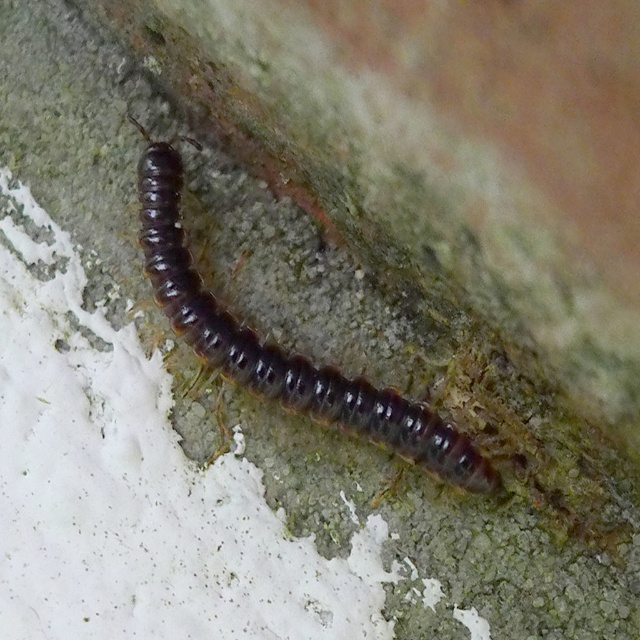Centipede: (125, 118, 506, 502)
